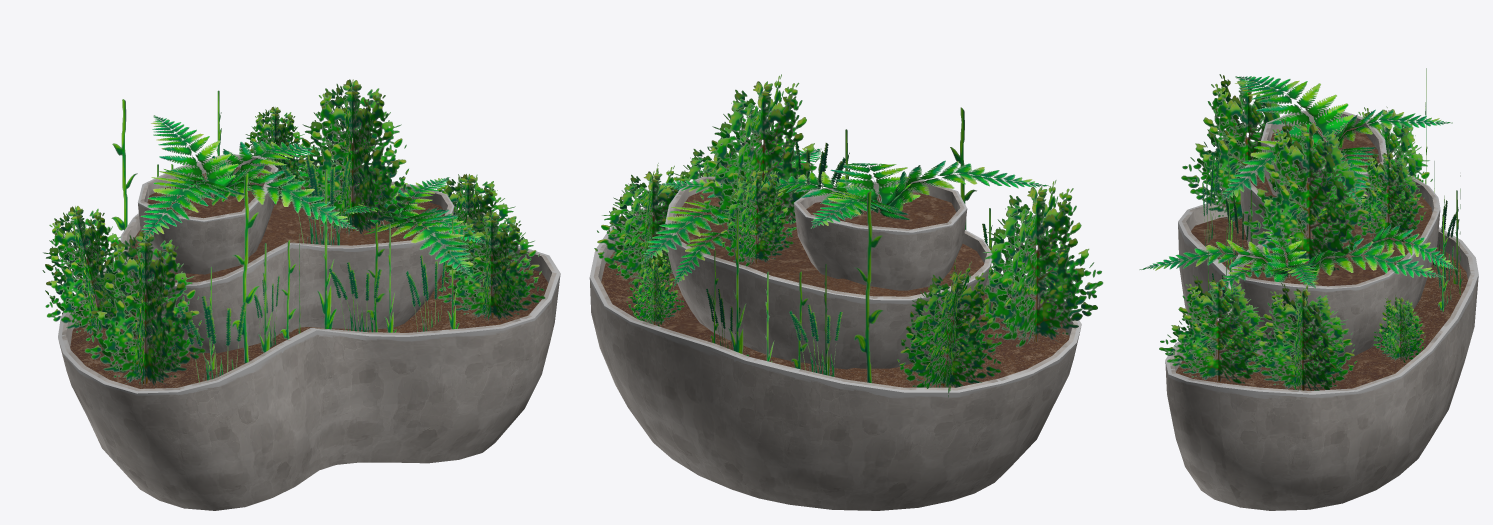
The model's file is SM_PropsHUB_StreetPot_A.fbx.
3 renders of one model, left to right at view 1: azimuth 30°, elevation 25°; view 2: azimuth 150°, elevation 25°; view 3: azimuth 270°, elevation 25°, orthographic. The views are drawn at different scales.
Visible parts, largest first — view 1: SM_Cantero_A; view 2: SM_Cantero_A; view 3: SM_Cantero_A.
Boxes of the visible parts, <box> form: SM_Cantero_A: <box>42,79,560,510</box>; SM_Cantero_A: <box>589,74,1103,510</box>; SM_Cantero_A: <box>1139,68,1478,510</box>.
Size of the model in its own units: 271 by 212 by 180.
